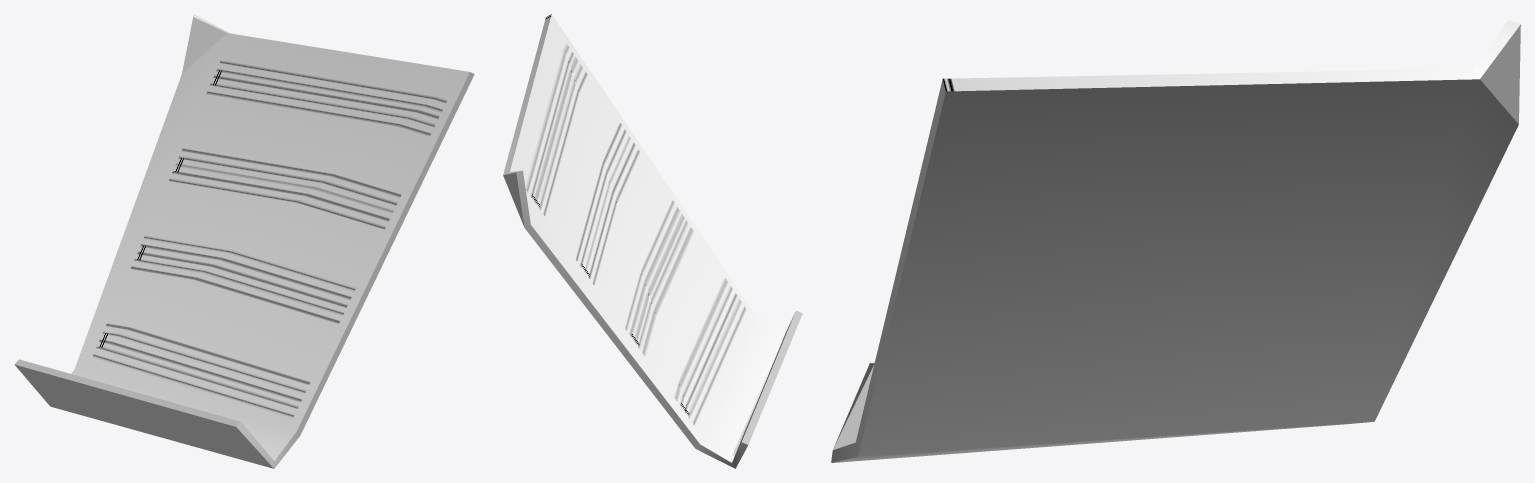
Rendered from Partition.fbx.
The picture shows the model from 3 angles, left to right: view 1: azimuth 30°, elevation 25°; view 2: azimuth 150°, elevation 25°; view 3: azimuth 270°, elevation 25°; orthographic projection. The views are drawn at different scales.
Visible parts, largest first — view 1: Sphere.007; view 2: Sphere.007; view 3: Sphere.007.
Boxes of the visible parts, <box> form: Sphere.007: <box>14,14,474,468</box>; Sphere.007: <box>503,14,802,468</box>; Sphere.007: <box>831,20,1520,462</box>.
Bounding box in the file's own units: 48.46 × 46.16 × 46.29.
